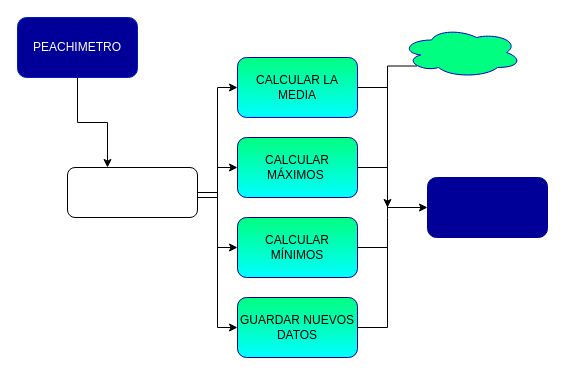
Image size: 565x375. Some labels were removed from this diagram. The shapes that lost their labels are listed below. From the top down, each one's centre as x and y in pixels, then its label:
(461,52): FICHEROS TXT.
(132,192): MENÚ
(487,207): pH CONDUCTIVIDAD COLIFROMES TURBIDEZ
